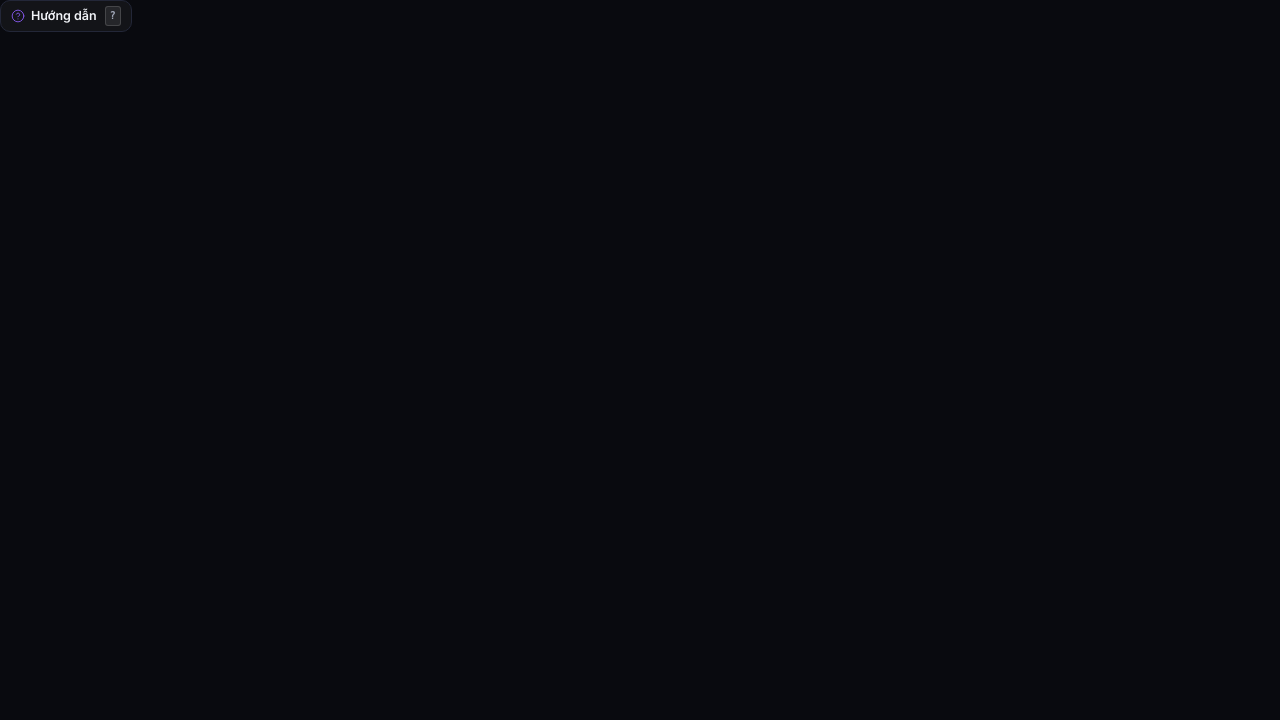
Scenario: SystemGuideModal & SystemGuideButton › opens and closes via global ? shortcut and close button
# Trigger keydown '?'
Press ?
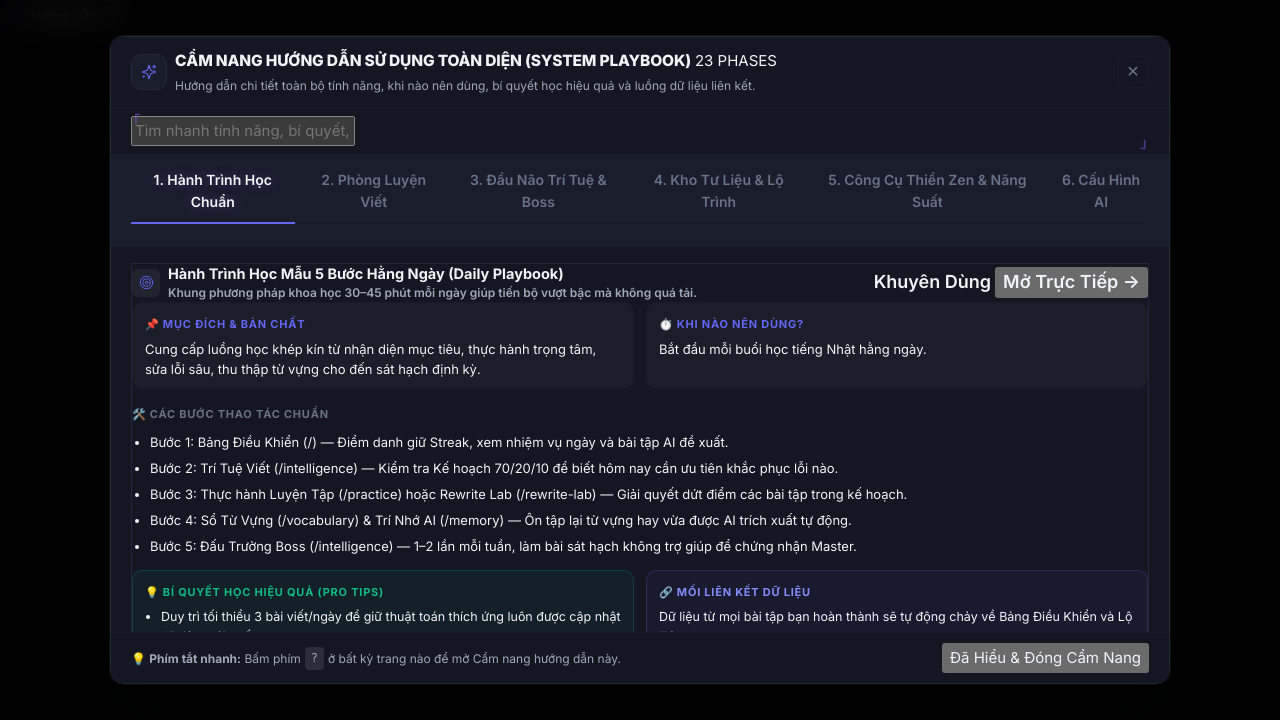
expect the heading "CẨM NANG HƯỚNG DẪN SỬ DỤNG TOÀN DIỆN (SYSTEM PLAYBOOK)" is shown: met, box x1=175 y1=49 x2=691 y2=74
# Close button
Click the button "Đã Hiểu & Đóng Cẩm Nang": (1046, 658) x1=942 y1=643 x2=1149 y2=673
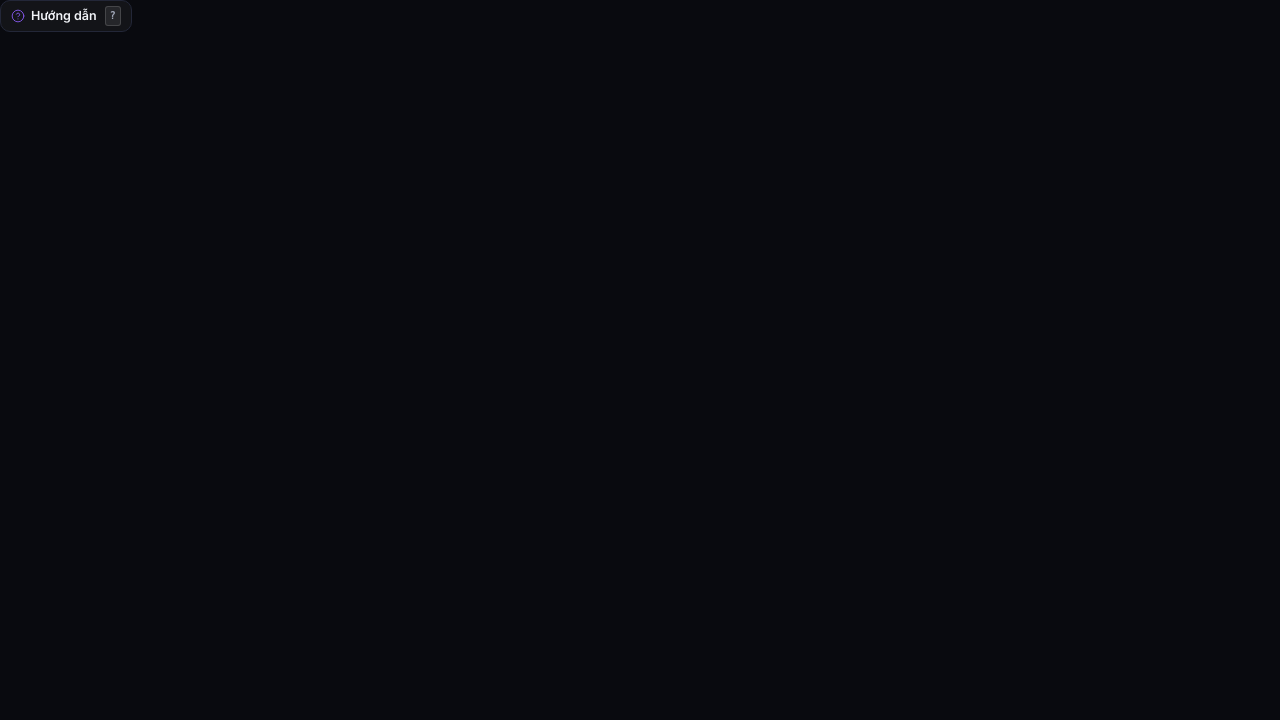
expect the heading "CẨM NANG HƯỚNG DẪN SỬ DỤNG TOÀN DIỆN" is gone: met
